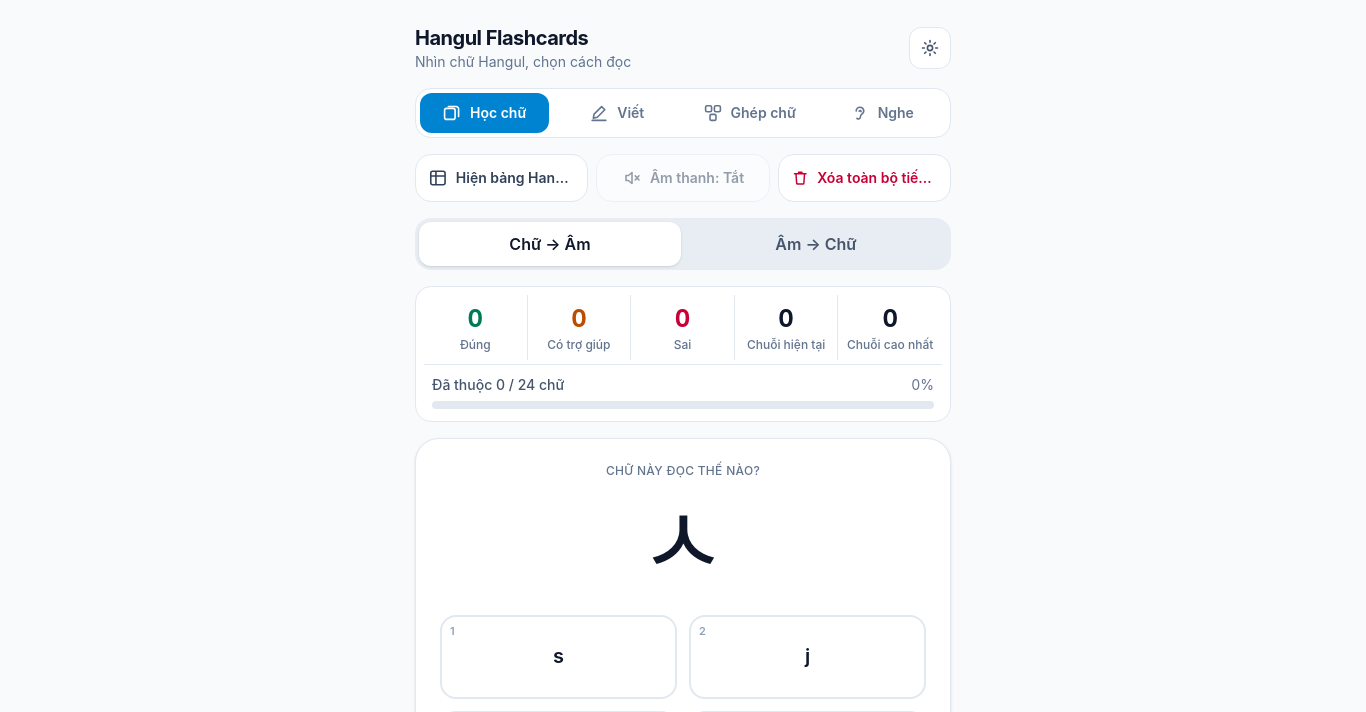
Test: App › wipes everything only after the confirmation dialog is accepted
Click the button named "Đáp án": click(558, 657) [440,615,677,699]
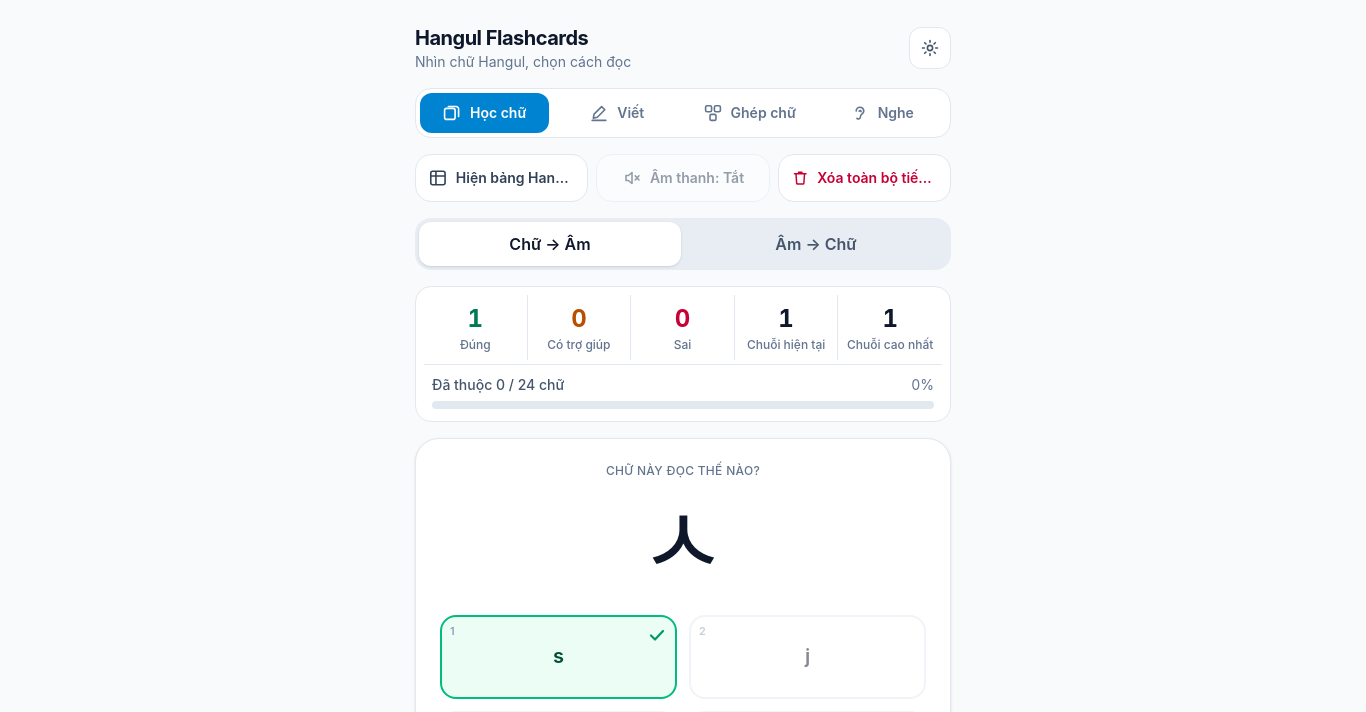
Click the button "Xóa toàn bộ tiến độ": click(864, 178) [778,154,951,202]
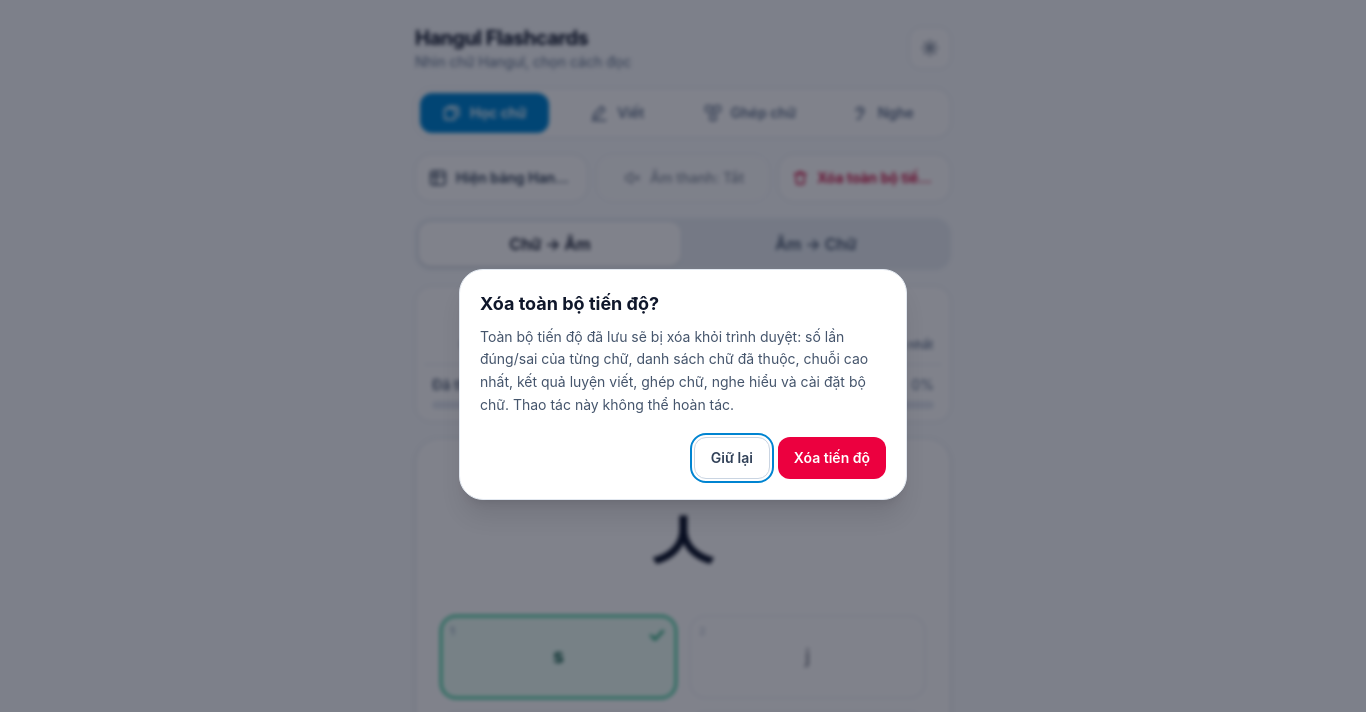
Click the button "Giữ lại": click(732, 458) [694,436,770,478]
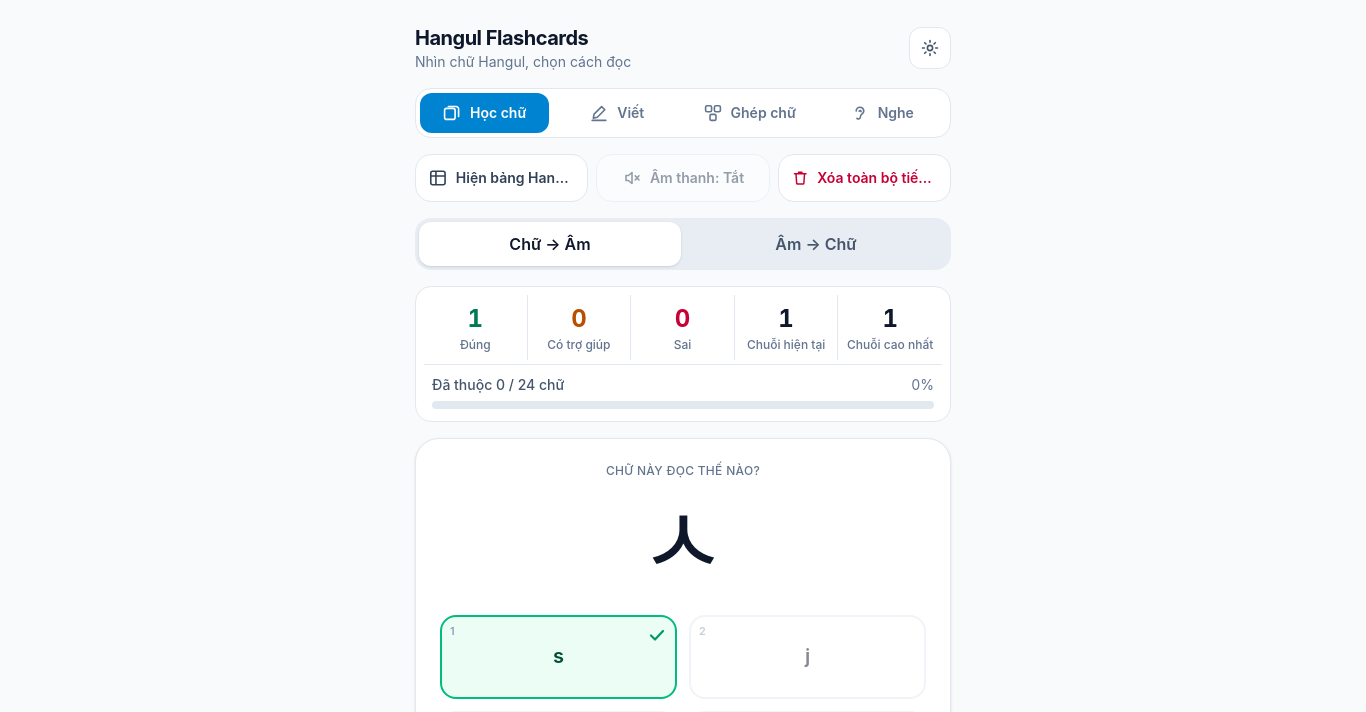
Click the button "Xóa toàn bộ tiến độ": click(864, 178) [778,154,951,202]
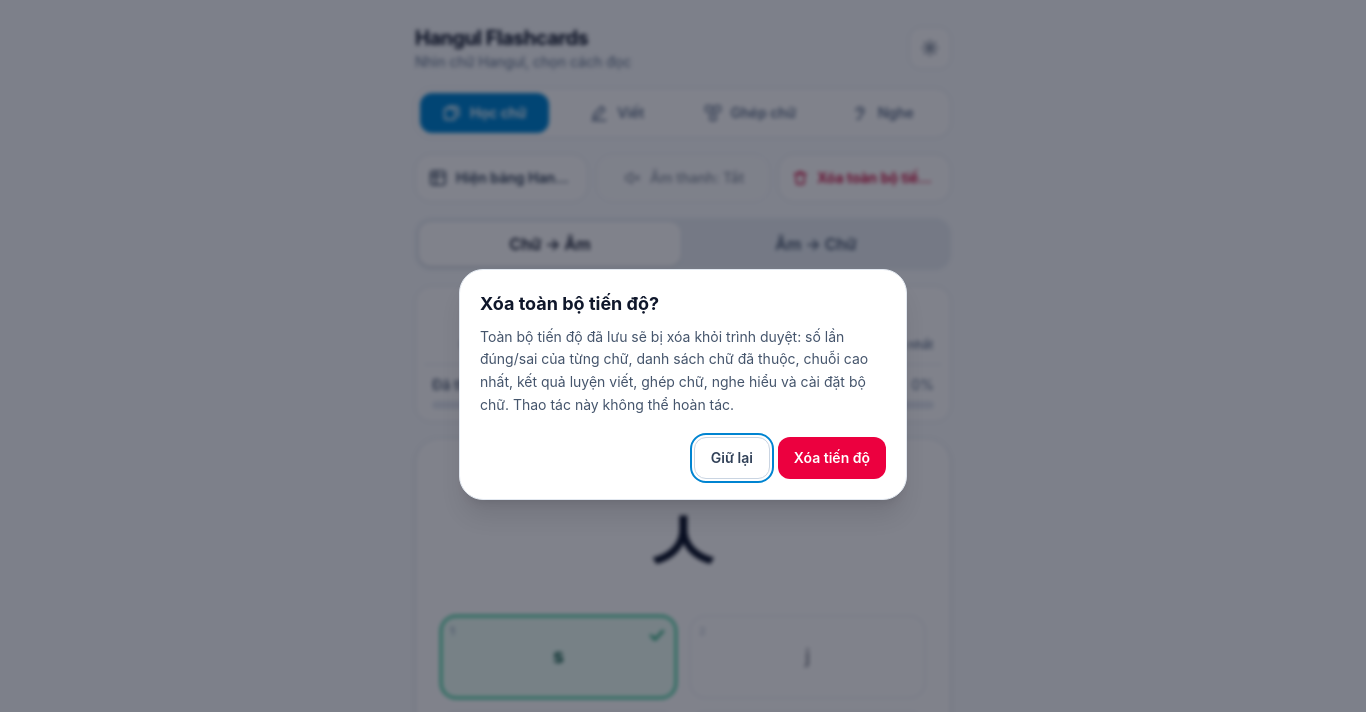
Click the button "Xóa tiến độ": click(832, 458) [778,436,886,478]
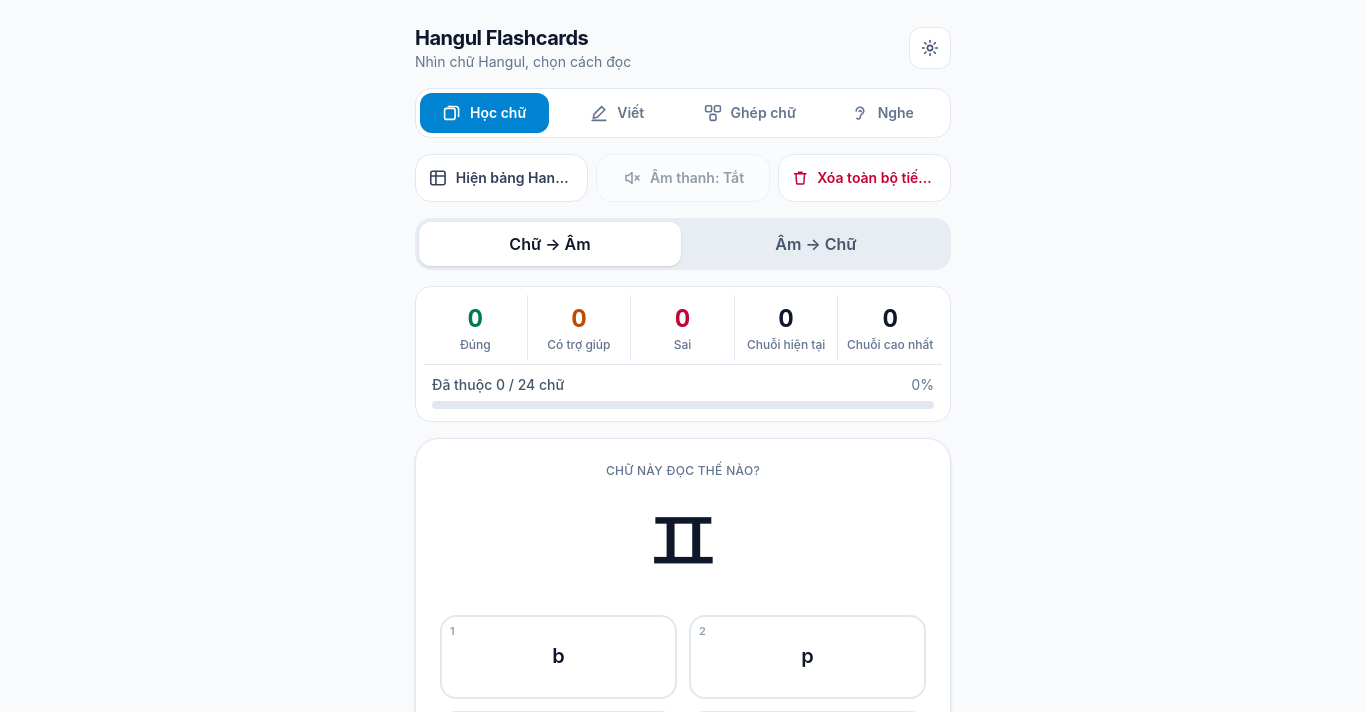
Expected: the dialog is gone
